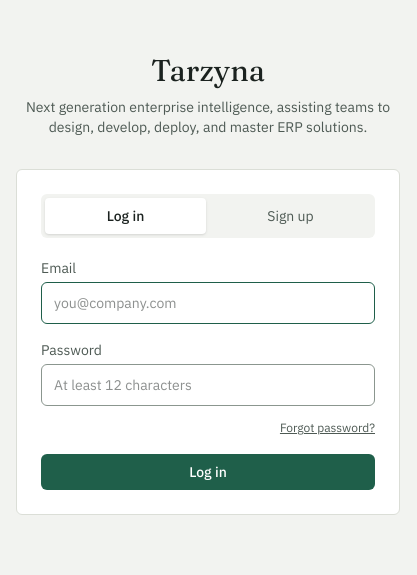
Test: LoginPage signup flow › POSTs the signup payload and shows the verification-email confirmation
Click the button "Sign up" at (290, 216), box [210,198,371,234]
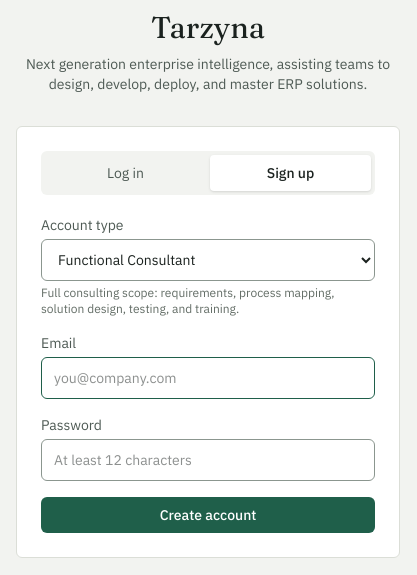
Select "Developer" in the dropdown labelled "Account type" at (208, 260), box [41,239,375,281]
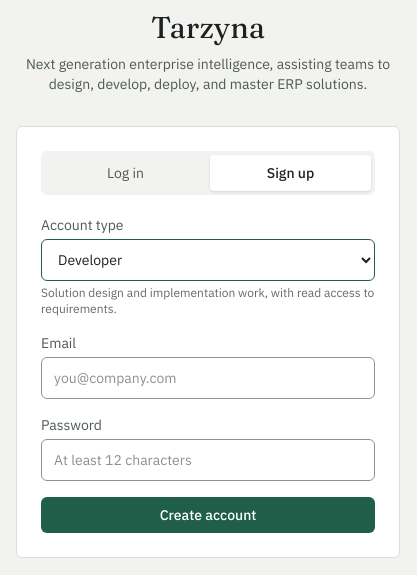
Type "a@b.com" into the field labelled "Email" at (208, 378), box [41,357,375,399]
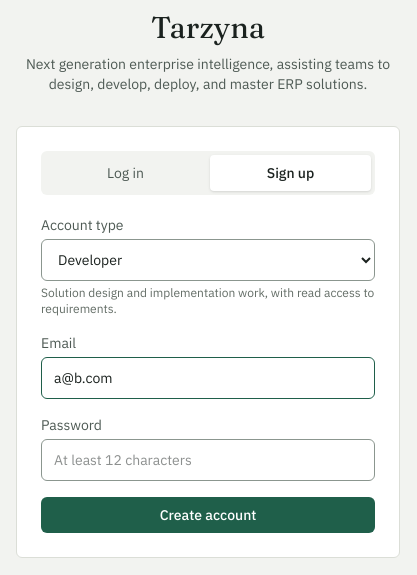
Type "correct horse battery staple" into the password field labelled "Password" at (208, 460), box [41,439,375,481]
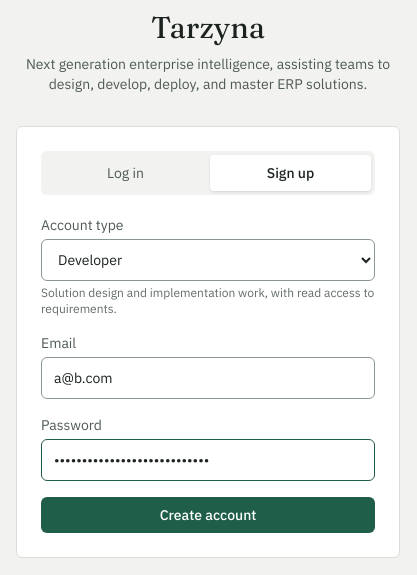
Click the button "Create account" at (208, 515), box [41,497,375,533]
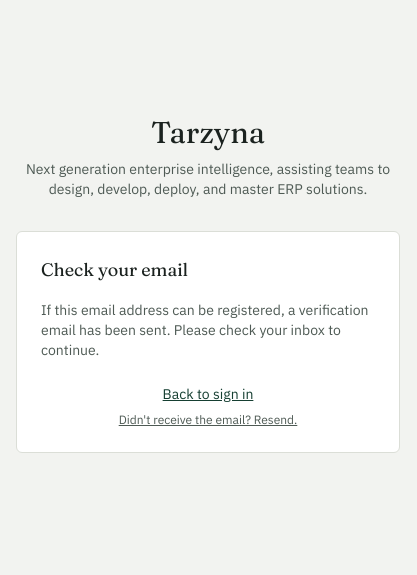
Check: the heading "Check your email" is shown, box [41,258,188,281]
